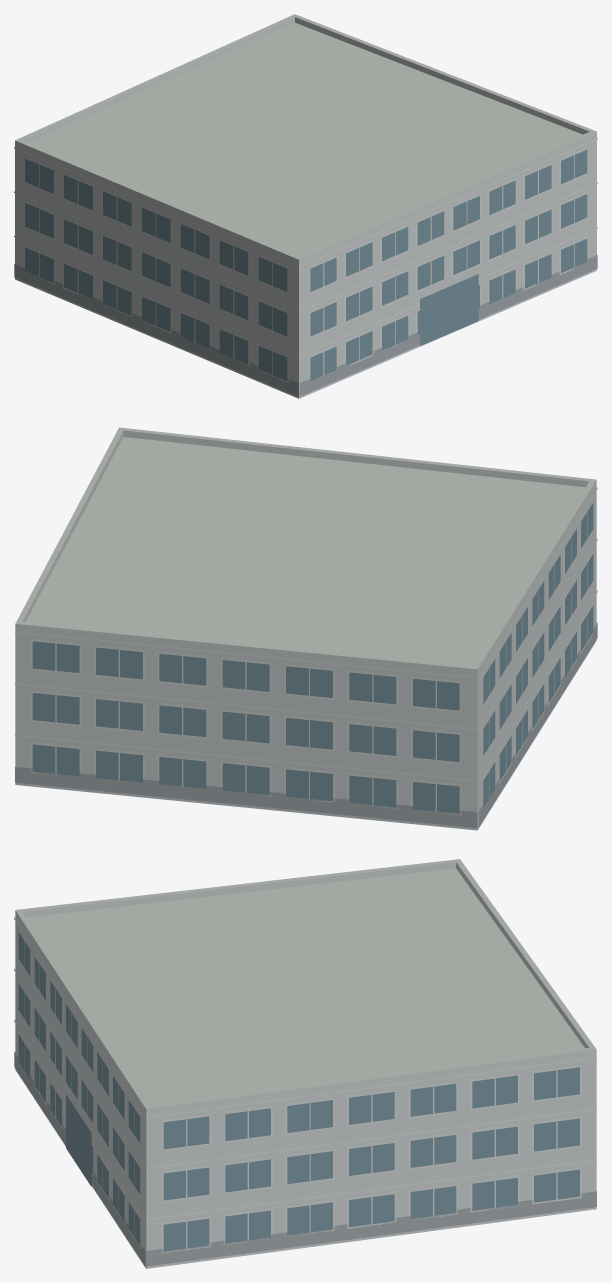
The model's file is public-19263c17-c804-4c5b-b9f8-a9e7aa1c0171.glb.
The picture shows the model from 3 angles, top to bottom: view 1: azimuth 30°, elevation 25°; view 2: azimuth 150°, elevation 25°; view 3: azimuth 270°, elevation 25°; orthographic projection. The views are drawn at different scales.
Parts seen in each view (by area): view 1: public-19263c17-c804-4c5b-b9f8-a9e7aa1c0171; view 2: public-19263c17-c804-4c5b-b9f8-a9e7aa1c0171; view 3: public-19263c17-c804-4c5b-b9f8-a9e7aa1c0171.
Part boxes in pixels (x1,y1,x2,y2): public-19263c17-c804-4c5b-b9f8-a9e7aa1c0171: [14, 14, 597, 398]; public-19263c17-c804-4c5b-b9f8-a9e7aa1c0171: [15, 427, 597, 830]; public-19263c17-c804-4c5b-b9f8-a9e7aa1c0171: [14, 859, 596, 1268].
Bounding box in the file's own units: 30.84 × 9.15 × 30.3.
